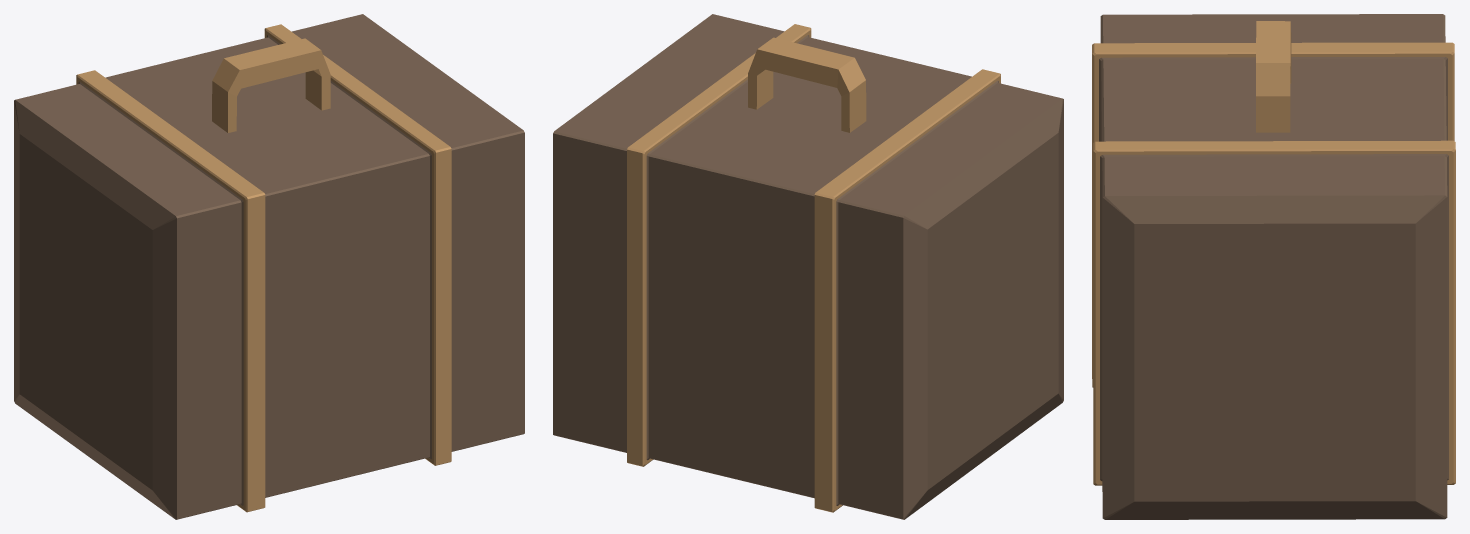
The model's file is Suitcase_2.fbx.
3 views of the same model, side by side, from view 1: azimuth 30°, elevation 25°; view 2: azimuth 150°, elevation 25°; view 3: azimuth 270°, elevation 25° (orthographic). The views are drawn at different scales.
Parts seen in each view (by area): view 1: Suitcase_2; view 2: Suitcase_2; view 3: Suitcase_2.
Boxes of the visible parts, left/top/right/bottom form: Suitcase_2: left=14, top=14, right=524, bottom=519; Suitcase_2: left=553, top=14, right=1063, bottom=519; Suitcase_2: left=1092, top=14, right=1455, bottom=519.
Bounding box in the file's own units: 65.36 × 52.37 × 62.69.
